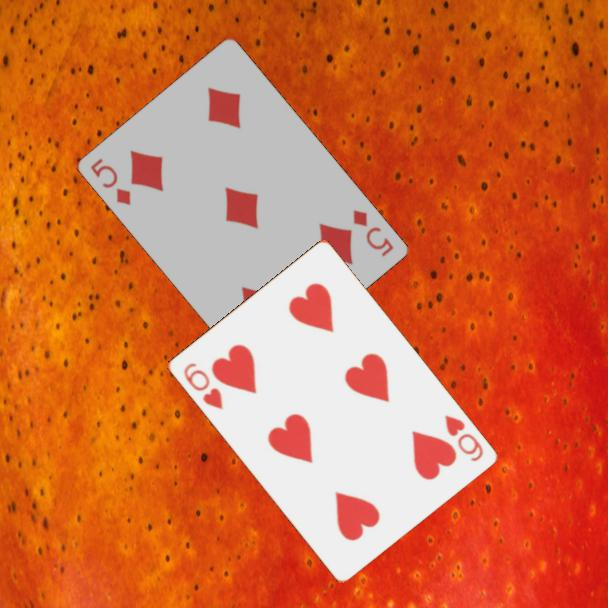d05: (349, 206, 396, 260), (86, 155, 133, 208)
h06: (179, 359, 226, 412), (441, 411, 486, 464)
